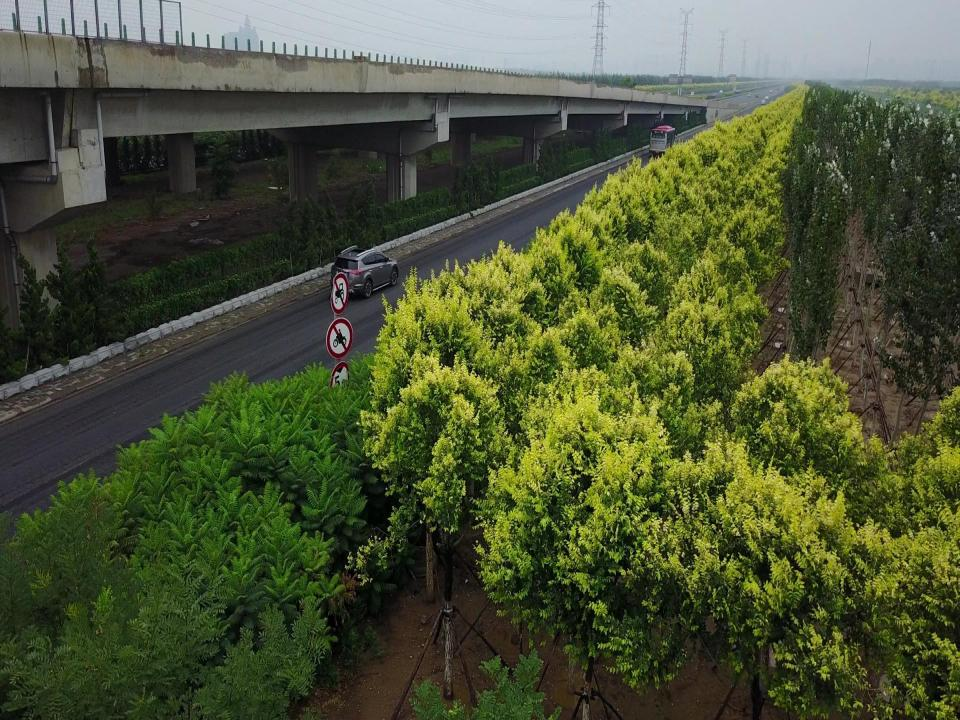bus: (650, 126, 676, 154)
car: (330, 248, 400, 296)
